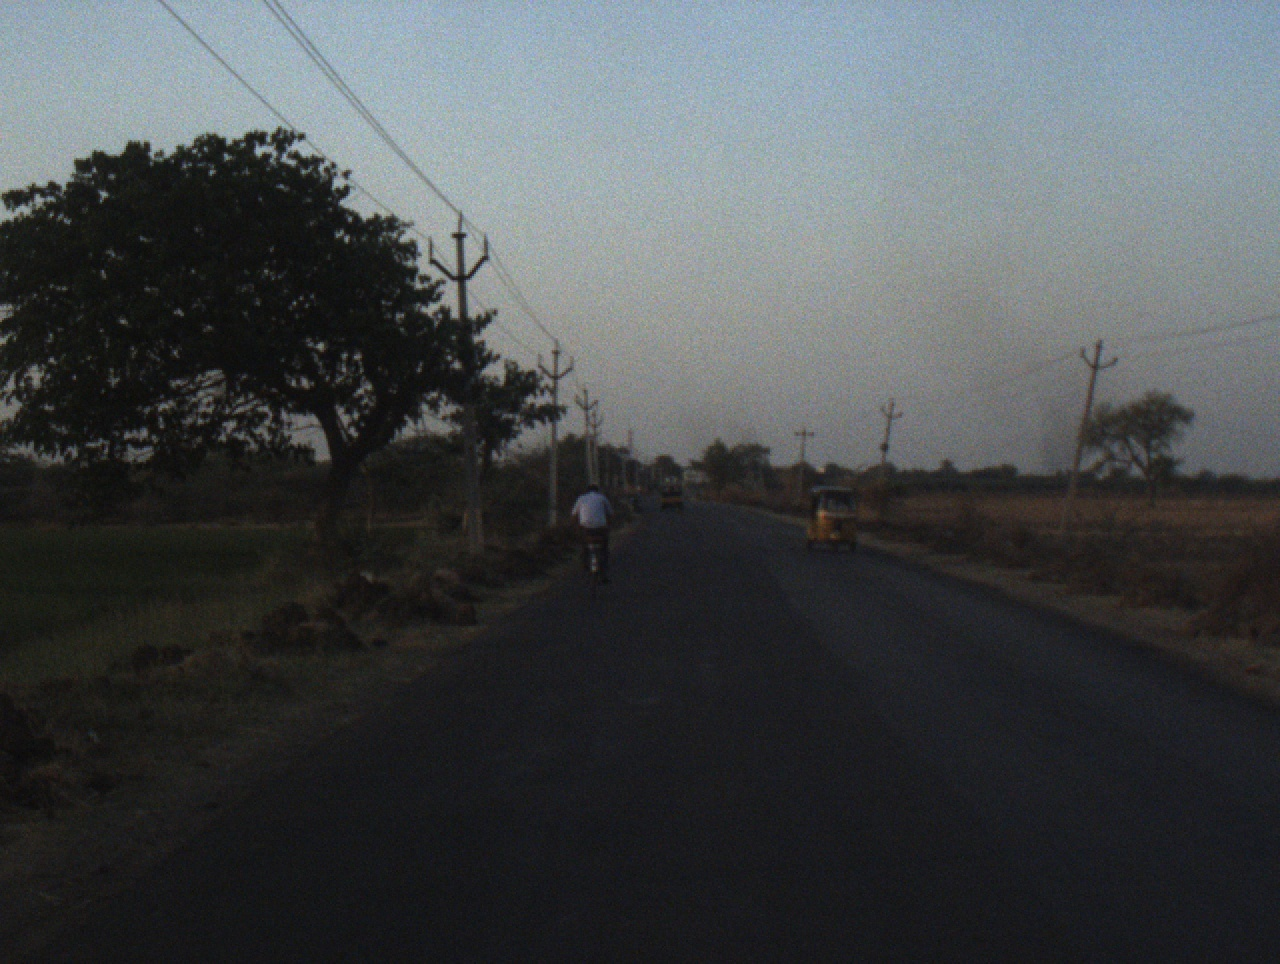autorickshaw: (804, 482, 862, 557), (657, 474, 688, 511)
bicycle: (579, 529, 608, 598)
rider: (572, 481, 616, 587)
